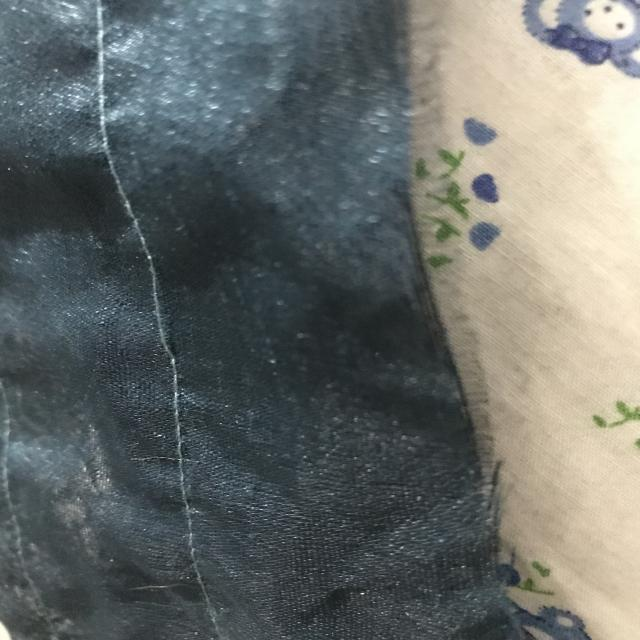good: (146, 382, 194, 452)
skip: (125, 255, 218, 371)
